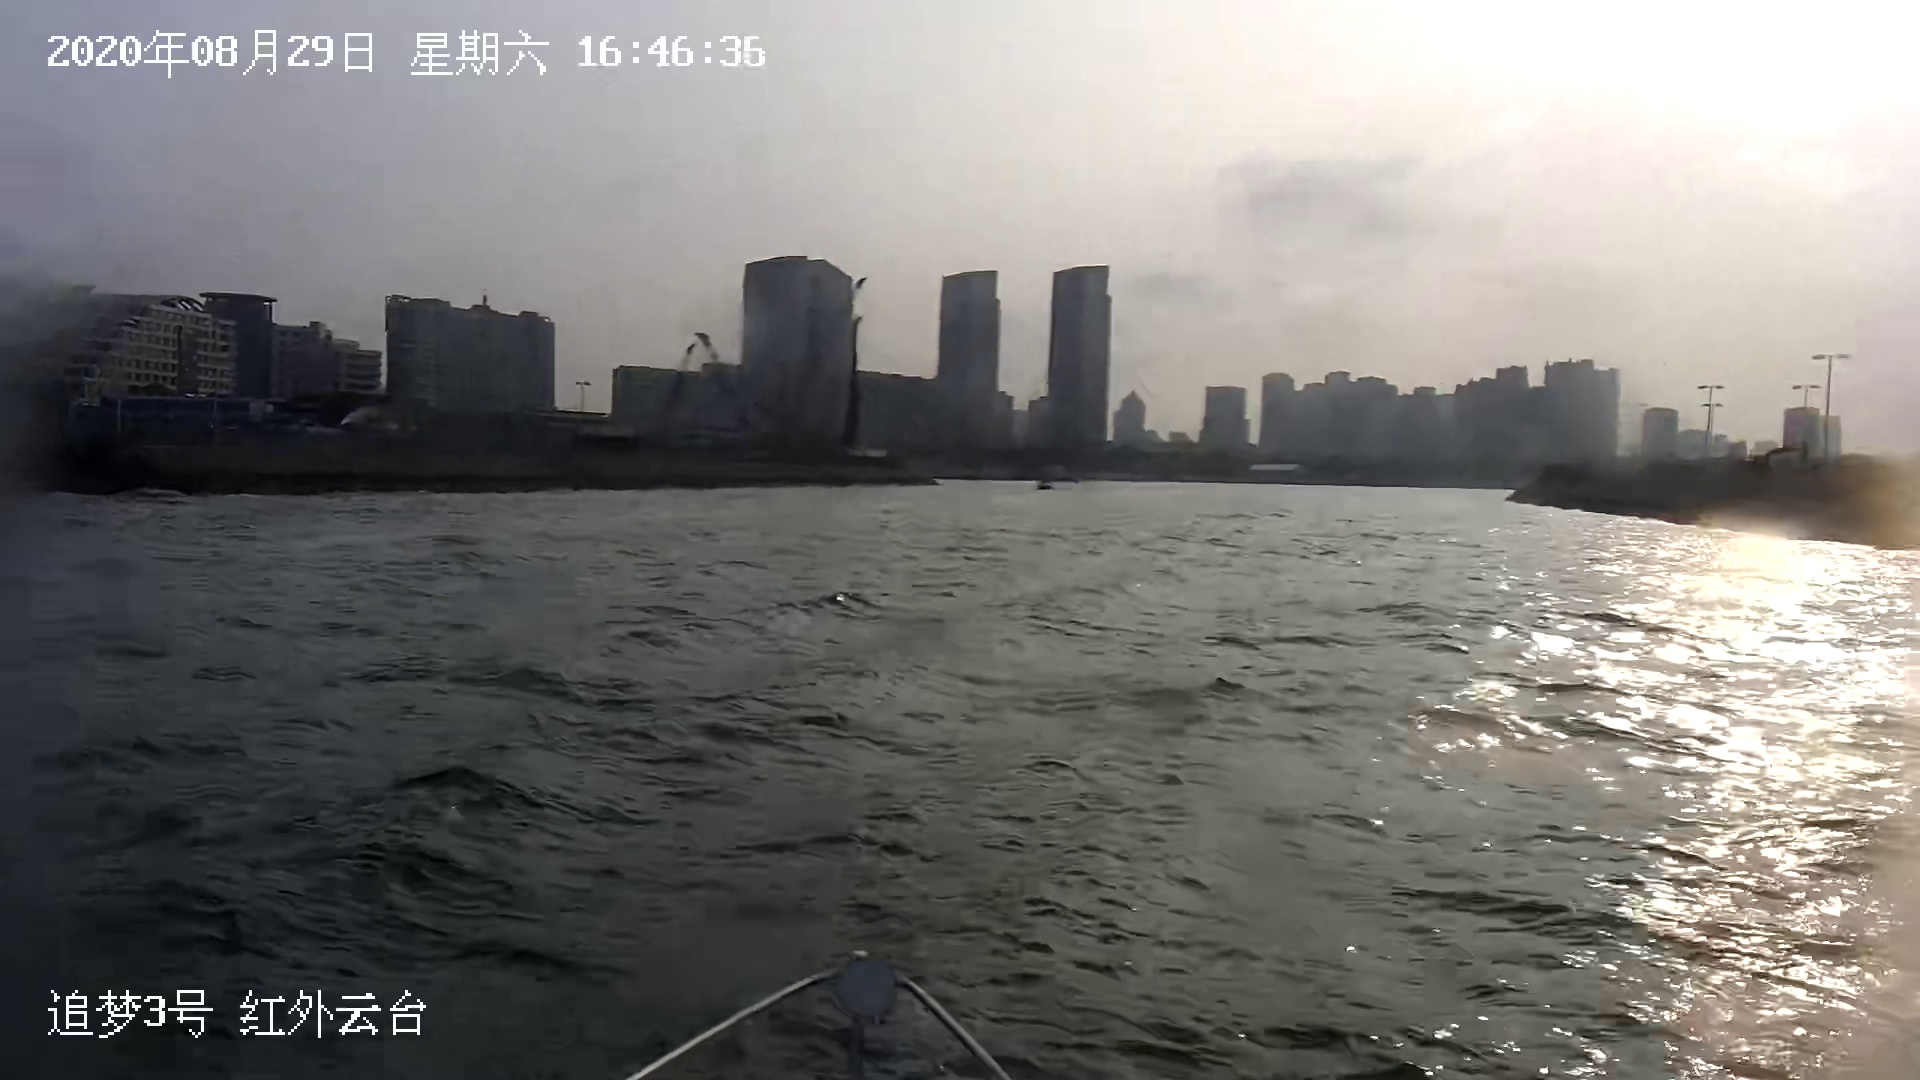coast: (7, 253, 1920, 560)
